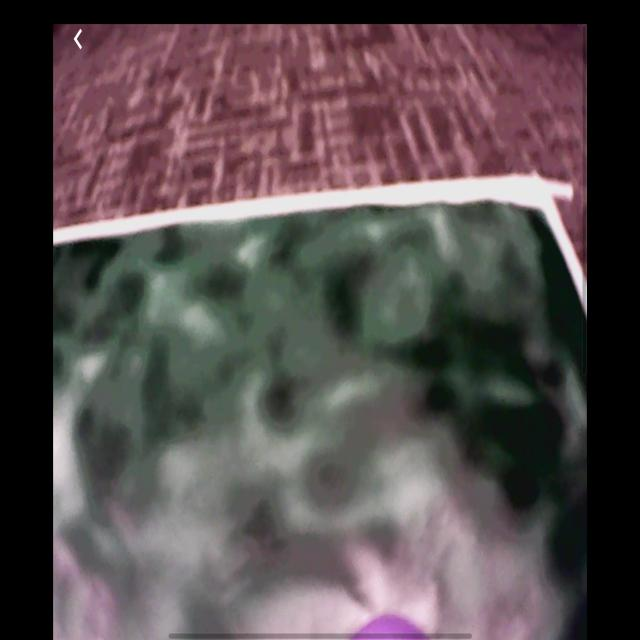ball: (352, 613, 428, 639)
